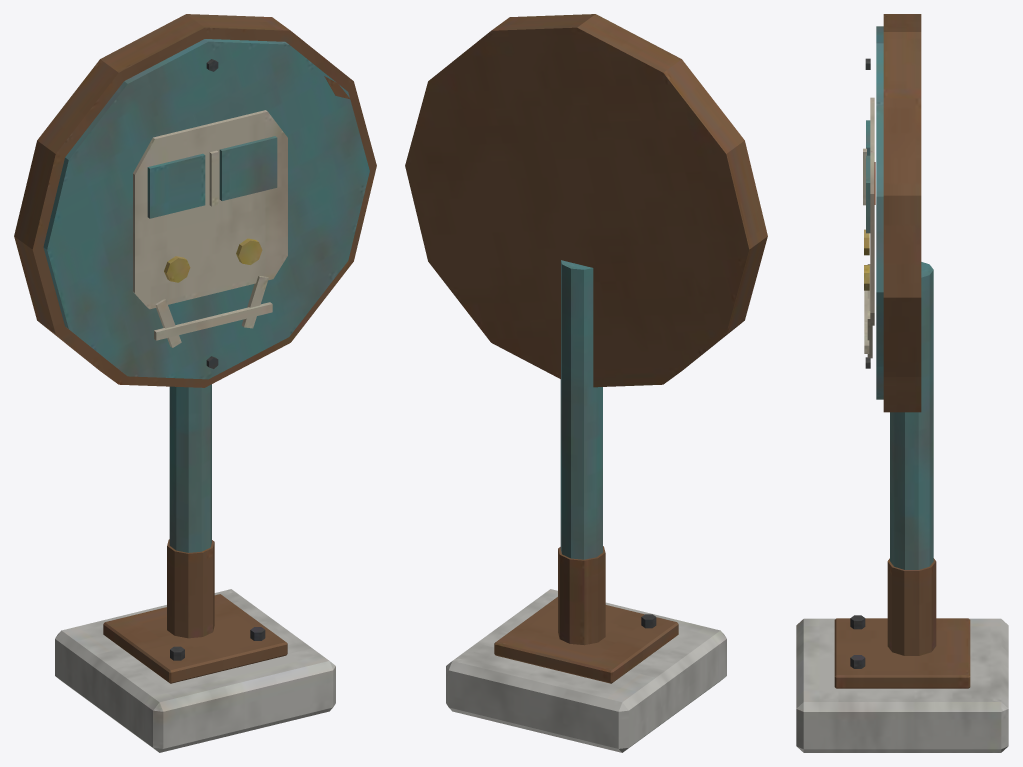
The model's file is RE02_platform_signs_symbols_v1.glb.
3 renders of one model, left to right at view 1: azimuth 30°, elevation 25°; view 2: azimuth 150°, elevation 25°; view 3: azimuth 270°, elevation 25°, orthographic.
Parts seen in each view (by area): view 1: Chipped concrete footing; view 2: Chipped concrete footing; view 3: Chipped concrete footing.
Part boxes in pixels (bbox=[...]): Chipped concrete footing: bbox=[14, 14, 376, 752]; Chipped concrete footing: bbox=[405, 14, 767, 752]; Chipped concrete footing: bbox=[796, 14, 1008, 752].
Size of the model in its own units: 0.64 by 1.2 by 0.34.
6 materials, 6 textured.
